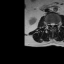CCS_normal: (51, 21, 53, 29)
LFS_stenosis: (55, 22, 56, 26)
LLS_normal: (53, 22, 55, 27)
RFS_stenosis: (48, 22, 50, 26)
RLS_normal: (50, 22, 52, 27)
